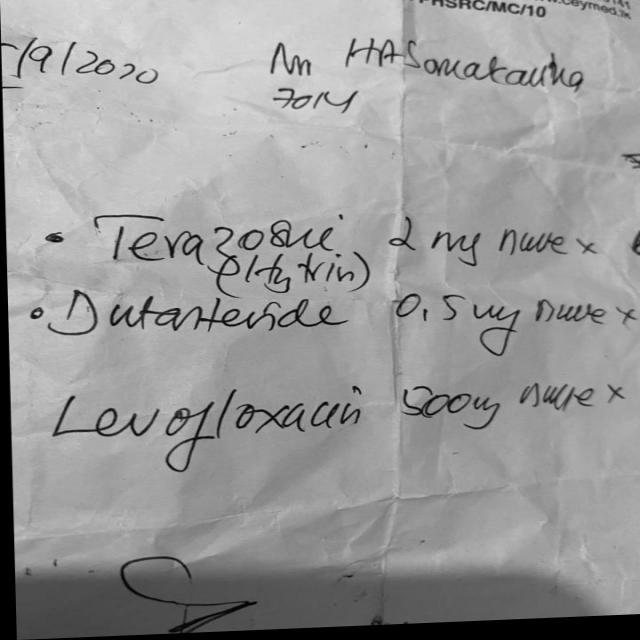Prescription: (90, 193, 609, 305), (42, 368, 607, 468), (42, 287, 621, 357)
